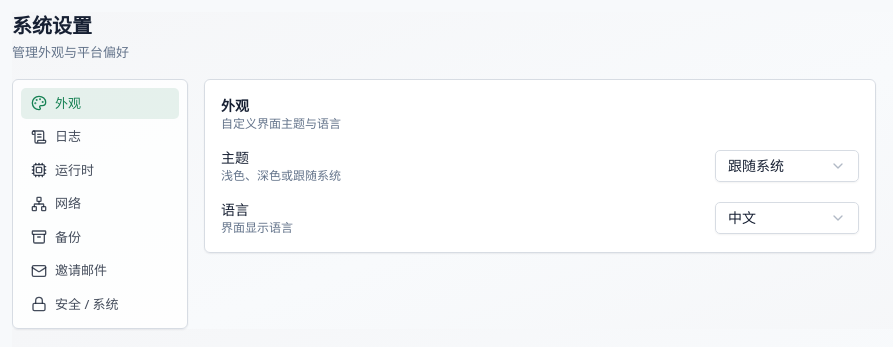
Test case: SettingsPage（mock 假后端） › 注入 500 → 平台配置显示加载失败错误态
Click the button "日志".
click(100, 137)  # box [21,121,179,152]
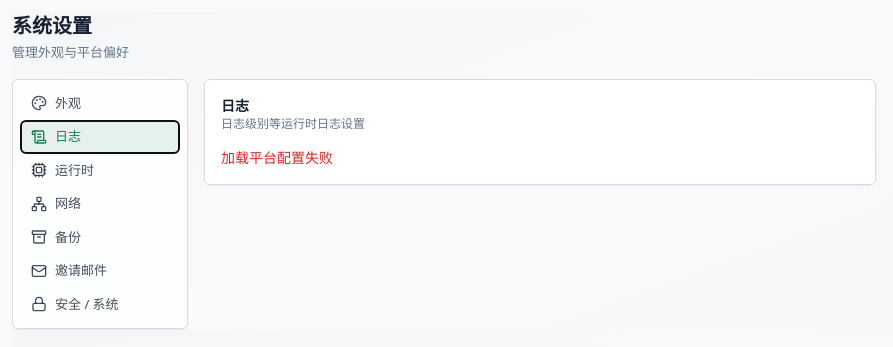
Check: the text "加载平台配置失败" is shown, box [221,148,333,166]
